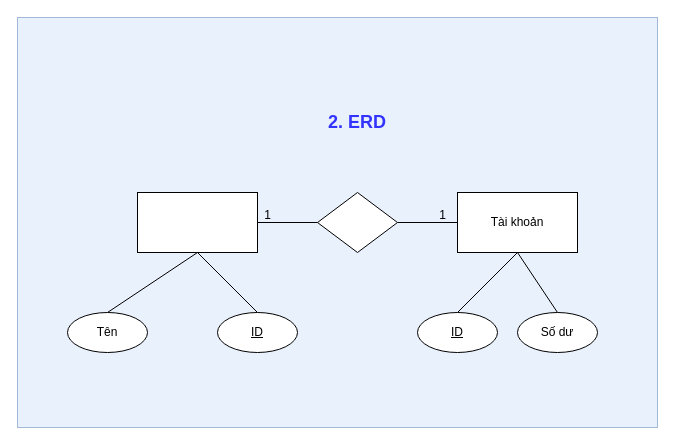
The diagram is 675 pixels wide and 445 high, and some of its shapes have lost their labels. The box of each missing label's shape, as (x1, y1, x2, y2) in pixels:
Có: (316, 192, 398, 252)
Khách hàng: (136, 192, 258, 252)
